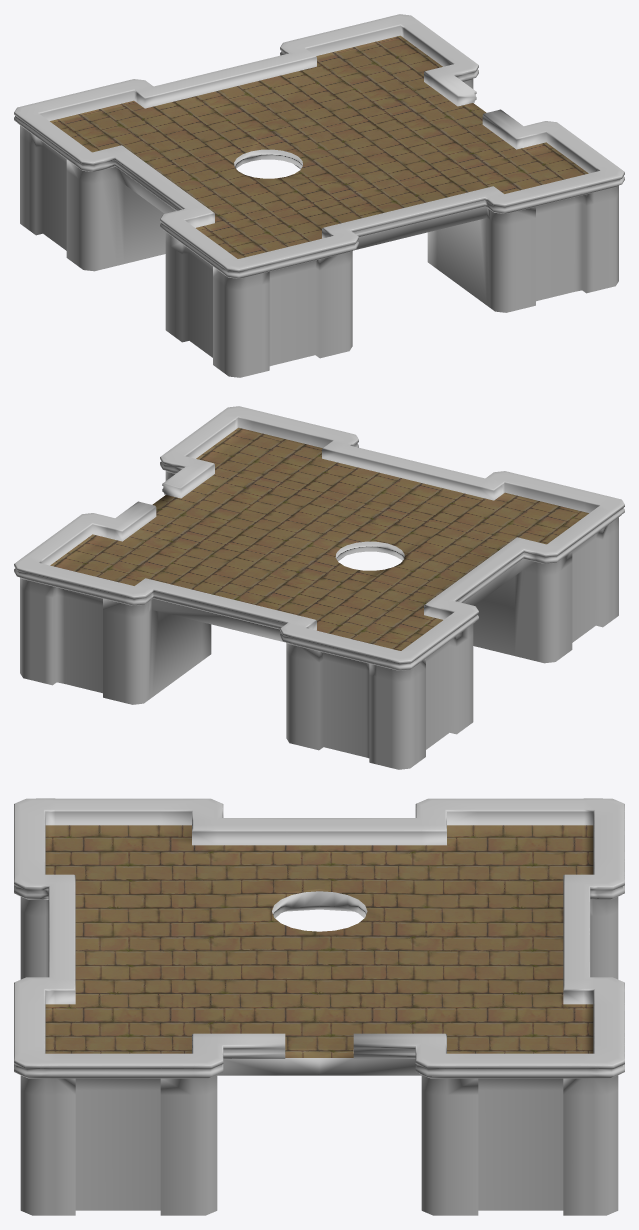
Rendered from PalaceBaseA.fbx.
3 views of the same model, one above another, from view 1: azimuth 30°, elevation 25°; view 2: azimuth 150°, elevation 25°; view 3: azimuth 270°, elevation 25° (orthographic). The views are drawn at different scales.
Visible parts, largest first — view 1: polySurface346; view 2: polySurface346; view 3: polySurface346.
Part boxes in pixels (left/top/right/bottom): polySurface346: left=14, top=14, right=624, bottom=377; polySurface346: left=14, top=406, right=624, bottom=769; polySurface346: left=14, top=798, right=624, bottom=1215.
Bounding box in the file's own units: 1159 × 310 × 1121.
